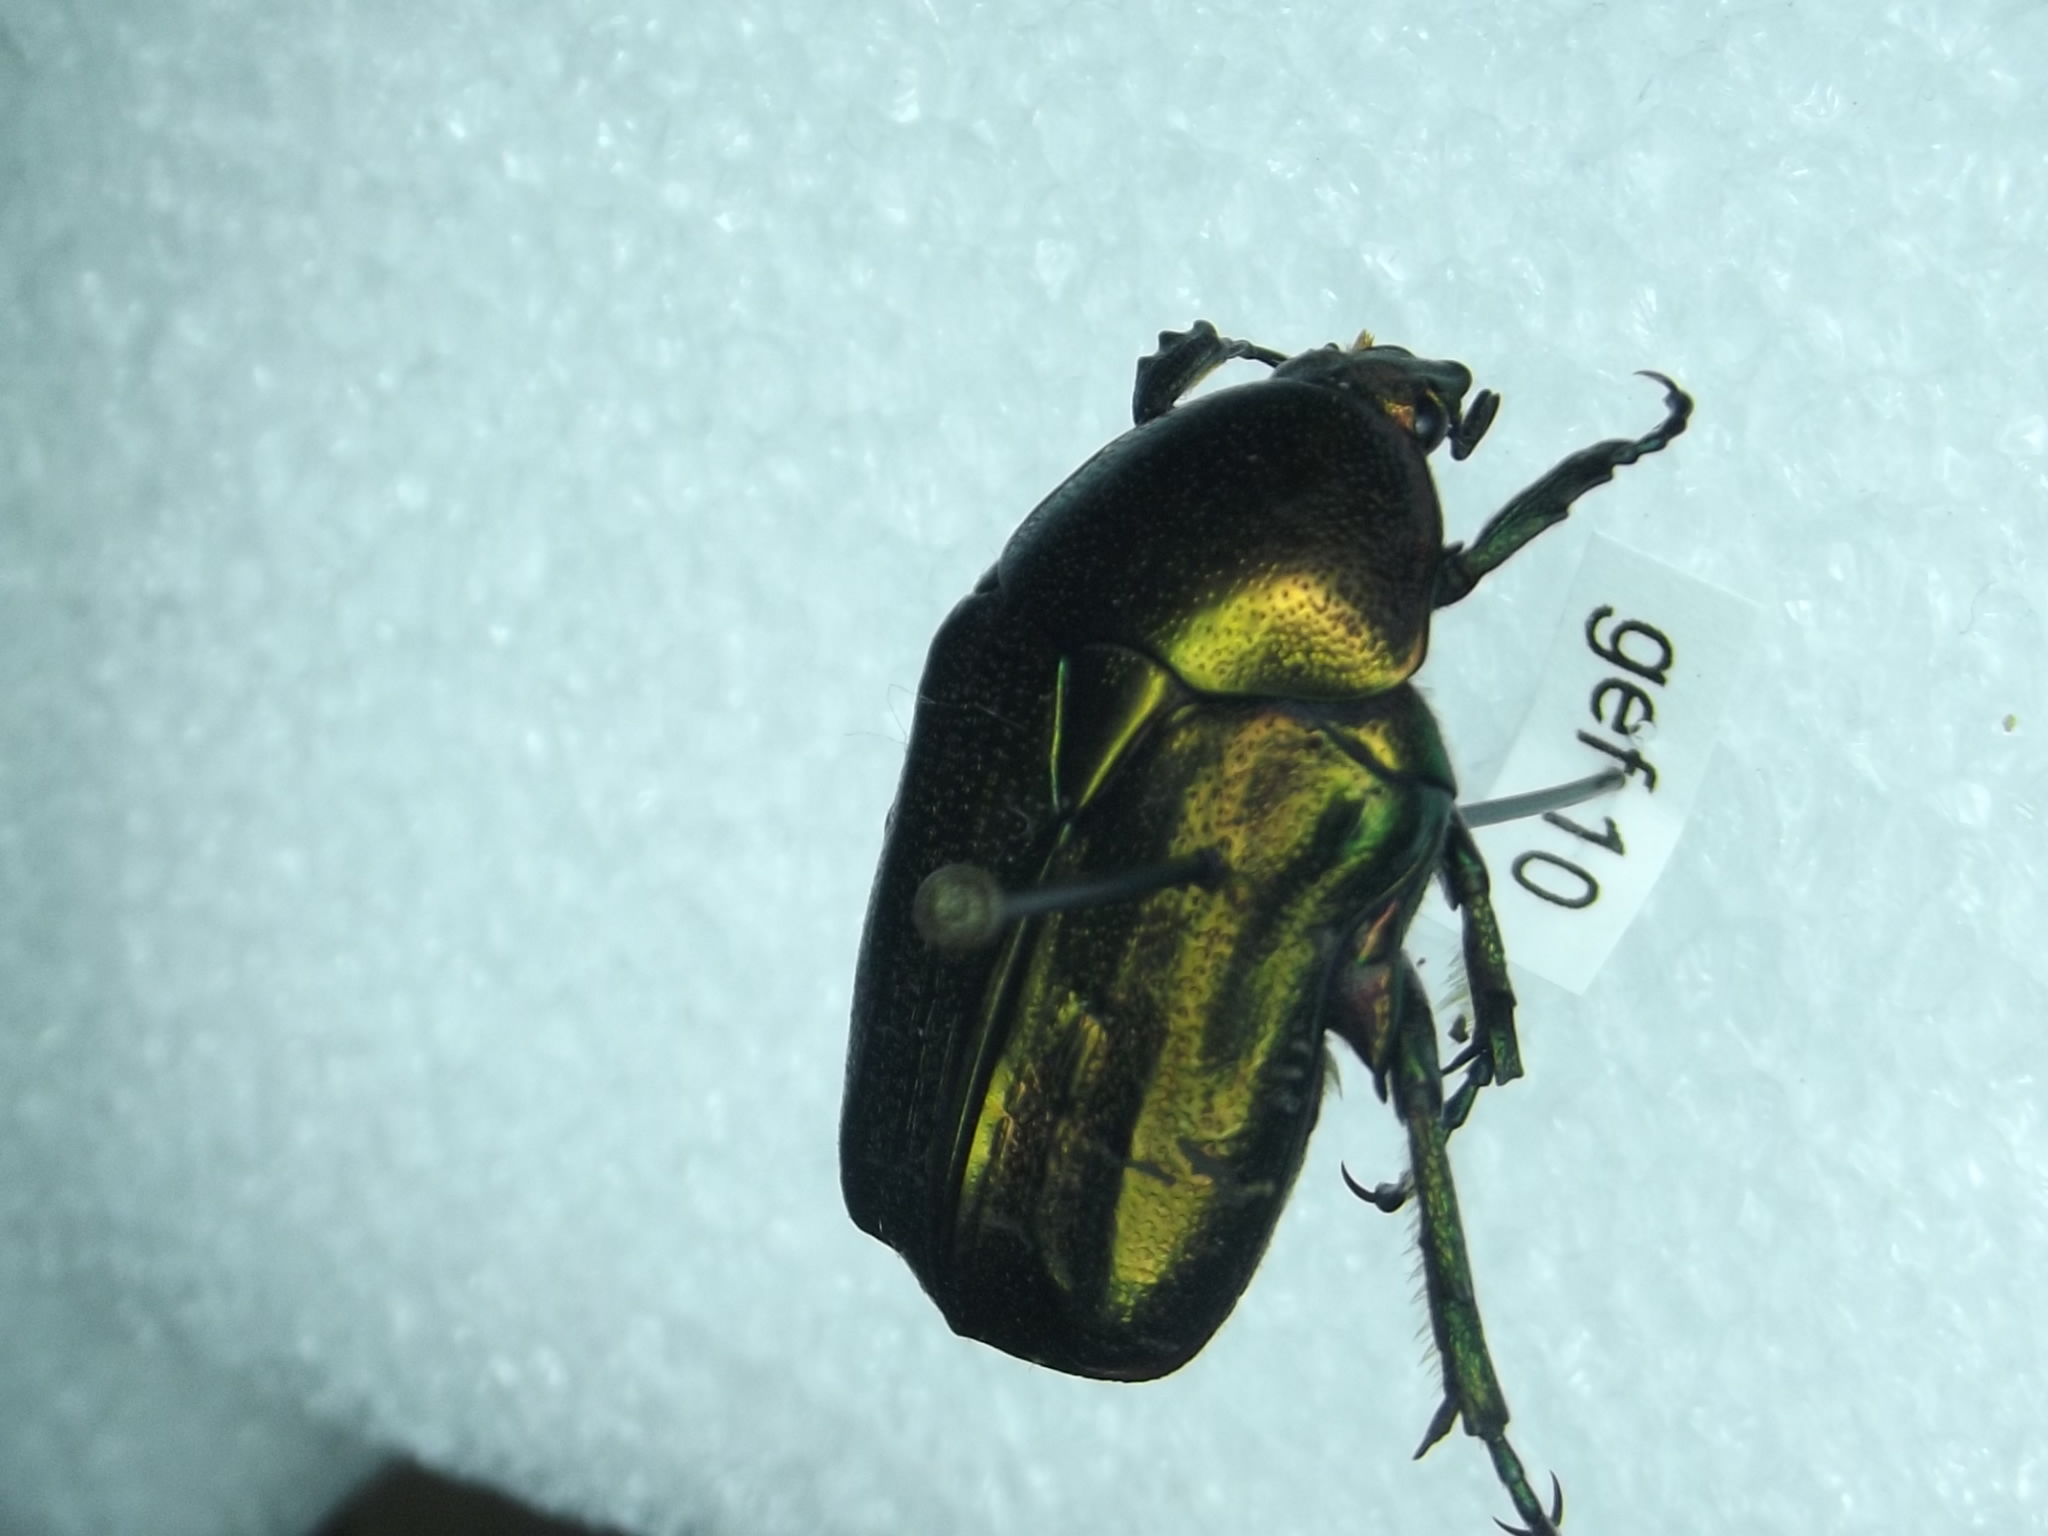Cetonia_aurata: (819, 203, 1701, 1536)
